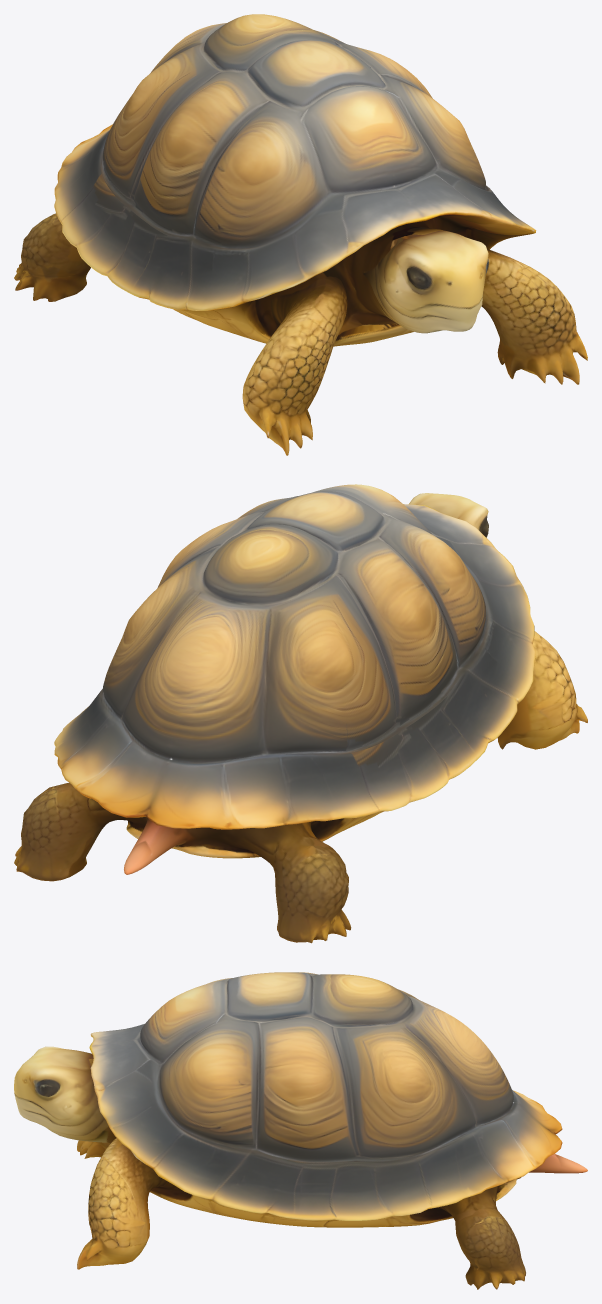
File: madagascanBigHeadedTurtle.glb
The picture shows the model from 3 angles, top to bottom: view 1: azimuth 30°, elevation 25°; view 2: azimuth 150°, elevation 25°; view 3: azimuth 270°, elevation 25°; orthographic projection. The views are drawn at different scales.
Parts seen in each view (by area): view 1: model; view 2: model; view 3: model.
Boxes of the visible parts, bbox=[...] form: model: bbox=[14, 14, 587, 455]; model: bbox=[14, 484, 587, 943]; model: bbox=[14, 972, 587, 1289].
Size of the model in its own units: 1.11 by 0.8992 by 1.89.
1 material, 1 textured.
